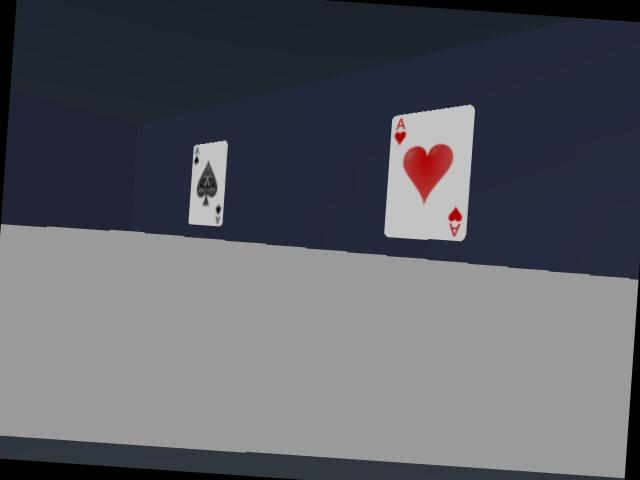heart: (384, 105, 474, 240)
spade: (188, 141, 227, 225)
